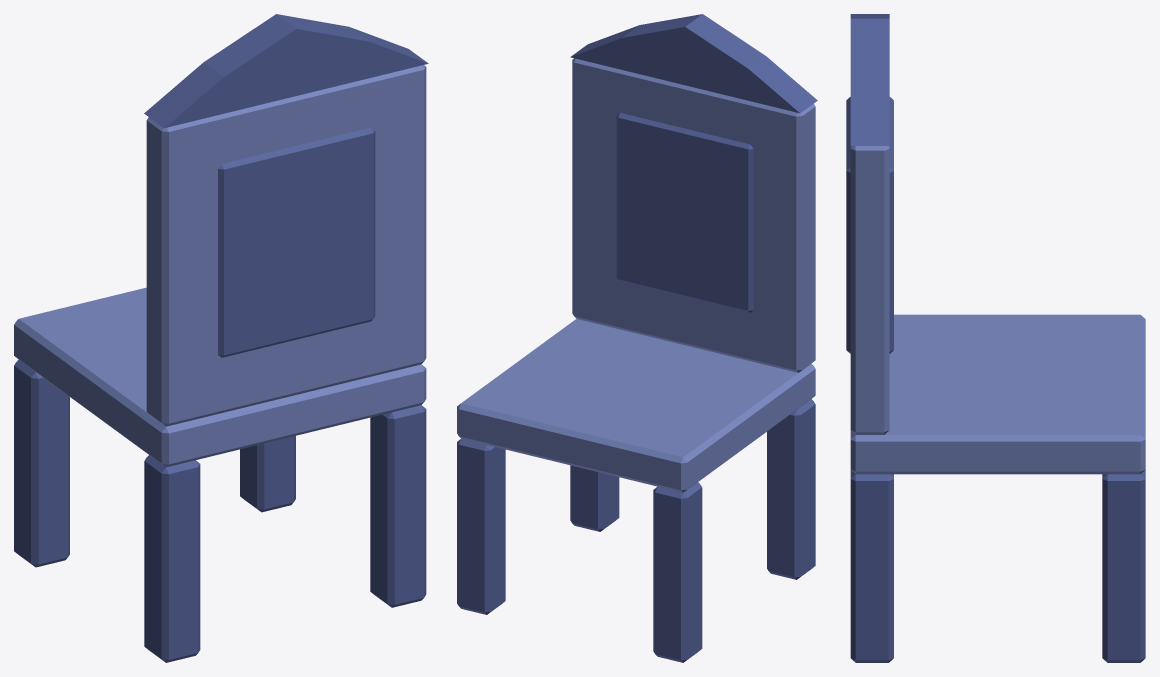
The model's file is blue_dungeon_chair_v0.glb.
3 views of the same model, side by side, from view 1: azimuth 30°, elevation 25°; view 2: azimuth 150°, elevation 25°; view 3: azimuth 270°, elevation 25° (orthographic). The views are drawn at different scales.
Parts seen in each view (by area): view 1: blue_dungeon_chair_v0; view 2: blue_dungeon_chair_v0; view 3: blue_dungeon_chair_v0.
Part boxes in pixels (x1,y1,x2,y2): blue_dungeon_chair_v0: (14, 14, 428, 662); blue_dungeon_chair_v0: (457, 14, 817, 662); blue_dungeon_chair_v0: (846, 14, 1145, 662).
Bounding box in the file's own units: 0.68 × 1.49 × 0.69.
